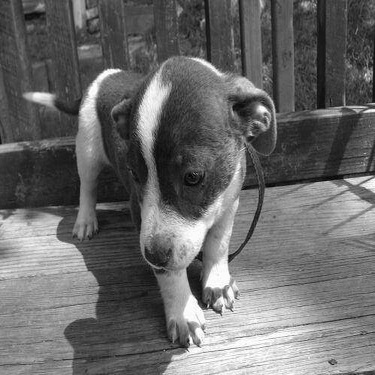dog: (20, 45, 283, 354)
